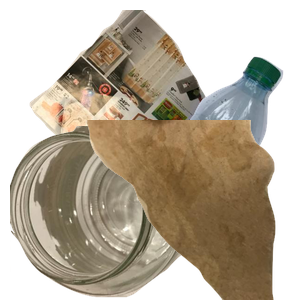glass: (10, 126, 216, 300)
paper: (27, 10, 230, 190)
plastic: (142, 54, 300, 234)
trash: (84, 120, 300, 300)
